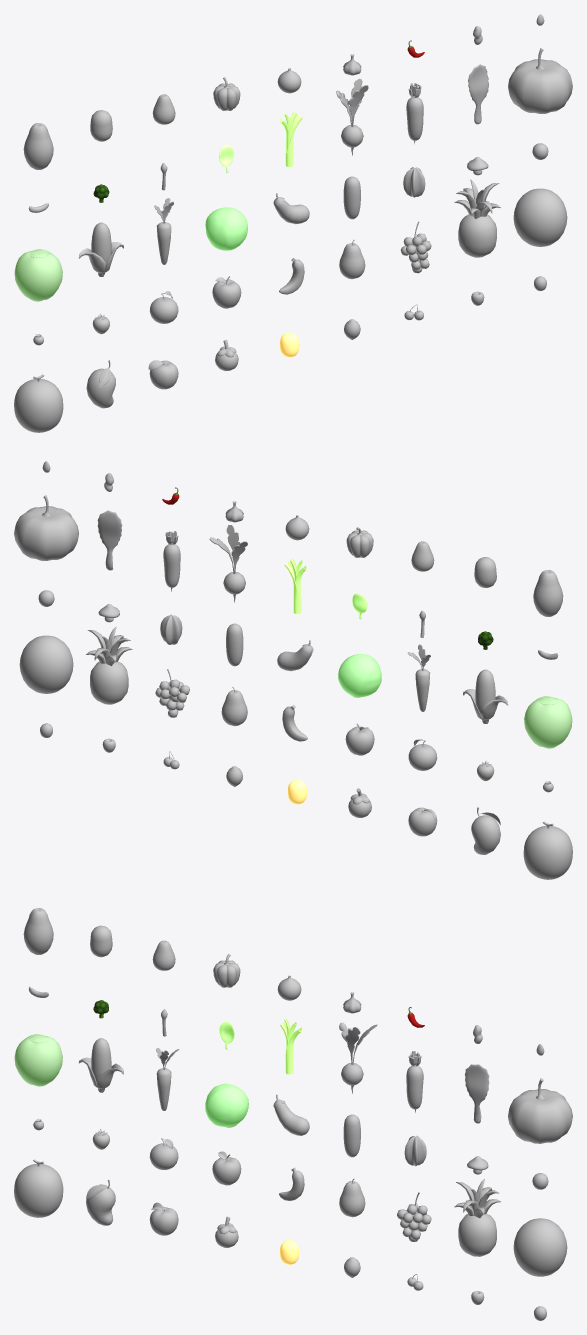
File: Fruits & Veg Pack.fbx
3 views of the same model, one above another, from view 1: azimuth 30°, elevation 25°; view 2: azimuth 150°, elevation 25°; view 3: azimuth 330°, elevation 25° (orthographic).
Parts seen in each view (by area): view 1: Pumpkin_Pumpkin_0, WaterMelon_WaterMelon_0, Pineapple_Pineapple_0, Melon_Melon_0, Coconut_Coconut_0, Cabbage_Cabbage_0, Corn_Corn_0, Papaya_Papaya_0, Radish_Radish_0, Mango_Mango_0, Grape_Grape_0, WhiteRadish_WhiteRadish_0 (+13 smaller); view 2: Pumpkin_Pumpkin_0, WaterMelon_WaterMelon_0, Pineapple_Pineapple_0, Melon_Melon_0, Coconut_Coconut_0, Cabbage_Cabbage_0, Corn_Corn_0, Papaya_Papaya_0, Mango_Mango_0, Radish_Radish_0, ChineseKale_ChineseKale_0, Grape_Grape_0 (+13 smaller); view 3: Pumpkin_Pumpkin_0, WaterMelon_WaterMelon_0, Pineapple_Pineapple_0, Melon_Melon_0, Coconut_Coconut_0, Cabbage_Cabbage_0, Corn_Corn_0, Papaya_Papaya_0, Mango_Mango_0, Radish_Radish_0, ChineseKale_ChineseKale_0, Grape_Grape_0 (+13 smaller).
Part boxes in pixels (x1=…): Pumpkin_Pumpkin_0: x1=508, y1=48, x2=572, y2=113; WaterMelon_WaterMelon_0: x1=513, y1=188, x2=567, y2=246; Pineapple_Pineapple_0: x1=454, y1=179, x2=500, y2=257; Melon_Melon_0: x1=14, y1=374, x2=63, y2=432; Coconut_Coconut_0: x1=14, y1=249, x2=62, y2=301; Cabbage_Cabbage_0: x1=205, y1=207, x2=247, y2=250; Corn_Corn_0: x1=78, y1=222, x2=123, y2=276; Papaya_Papaya_0: x1=23, y1=123, x2=53, y2=169; Radish_Radish_0: x1=336, y1=78, x2=368, y2=155; Mango_Mango_0: x1=86, y1=360, x2=115, y2=408; Grape_Grape_0: x1=400, y1=221, x2=431, y2=273; WhiteRadish_WhiteRadish_0: x1=406, y1=83, x2=423, y2=144; Pumpkin_Pumpkin_0: x1=14, y1=495, x2=78, y2=560; WaterMelon_WaterMelon_0: x1=19, y1=635, x2=73, y2=693; Pineapple_Pineapple_0: x1=86, y1=626, x2=132, y2=704; Melon_Melon_0: x1=523, y1=821, x2=572, y2=879; Coconut_Coconut_0: x1=524, y1=696, x2=572, y2=748; Cabbage_Cabbage_0: x1=338, y1=654, x2=381, y2=697; Corn_Corn_0: x1=463, y1=669, x2=508, y2=723; Papaya_Papaya_0: x1=533, y1=570, x2=563, y2=616; Mango_Mango_0: x1=471, y1=807, x2=500, y2=854; Radish_Radish_0: x1=209, y1=525, x2=247, y2=602; ChineseKale_ChineseKale_0: x1=97, y1=510, x2=122, y2=570; Grape_Grape_0: x1=155, y1=669, x2=189, y2=717; Pumpkin_Pumpkin_0: x1=508, y1=1078, x2=572, y2=1143; WaterMelon_WaterMelon_0: x1=513, y1=1218, x2=567, y2=1276; Pineapple_Pineapple_0: x1=454, y1=1179, x2=500, y2=1256; Melon_Melon_0: x1=14, y1=1159, x2=63, y2=1217; Coconut_Coconut_0: x1=14, y1=1034, x2=62, y2=1086; Cabbage_Cabbage_0: x1=205, y1=1083, x2=248, y2=1127; Corn_Corn_0: x1=79, y1=1038, x2=123, y2=1092; Papaya_Papaya_0: x1=23, y1=908, x2=53, y2=954; Mango_Mango_0: x1=86, y1=1180, x2=115, y2=1225; Radish_Radish_0: x1=339, y1=1022, x2=377, y2=1093; ChineseKale_ChineseKale_0: x1=464, y1=1064, x2=489, y2=1123; Grape_Grape_0: x1=397, y1=1192, x2=431, y2=1241.
Bounding box in the file's own units: 69090 × 36703 × 6844.
